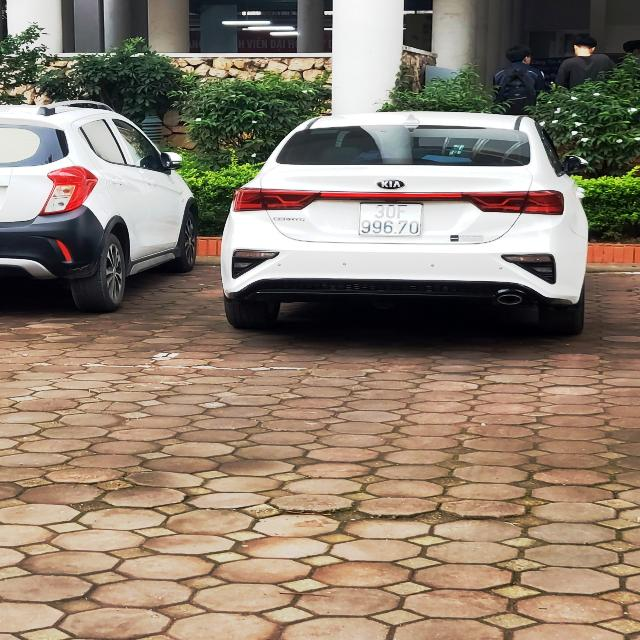license_plate: (359, 203, 425, 236)
